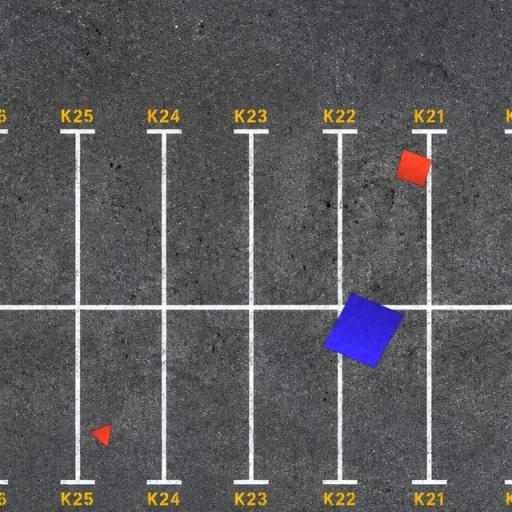BLUE_SQUARE: (322, 292, 406, 369)
RED_SQUARE: (395, 149, 433, 187)
